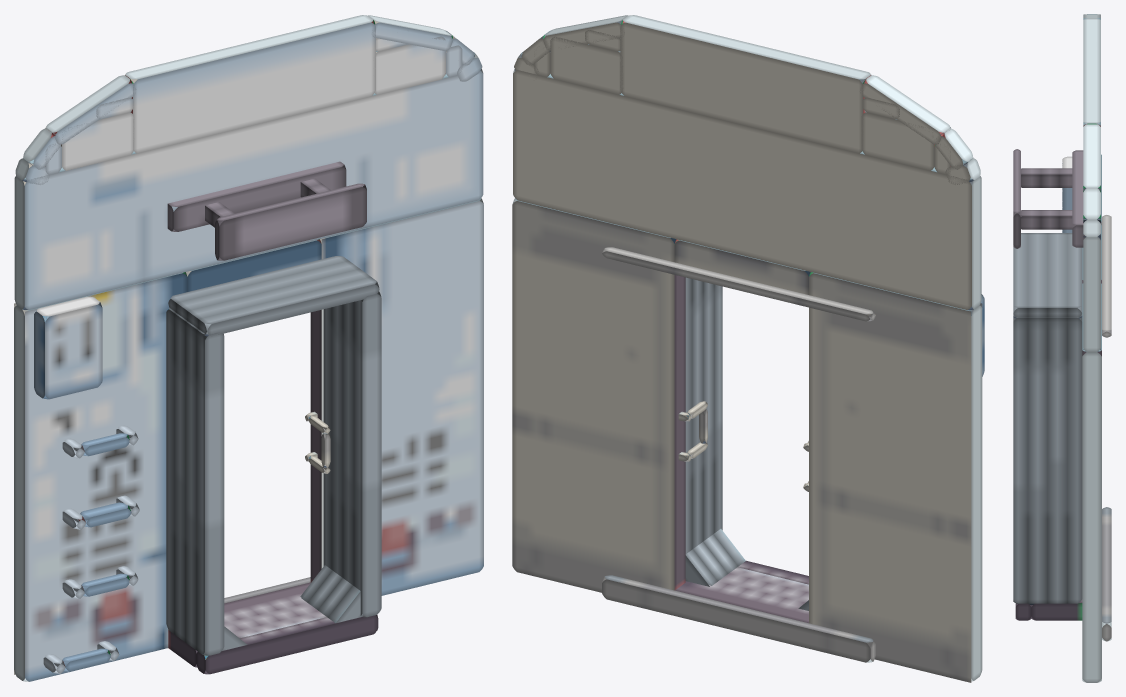
The model's file is end_face_original_25t_1.obj.
3 renders of one model, left to right at view 1: azimuth 30°, elevation 25°; view 2: azimuth 150°, elevation 25°; view 3: azimuth 270°, elevation 25°, orthographic. The views are drawn at different scales.
Parts seen in each view (by area): view 1: cube_selection; view 2: cube_selection; view 3: cube_selection.
Part boxes in pixels (box(x1,y1,x2,y2)): cube_selection: box(14, 15, 483, 681); cube_selection: box(512, 15, 984, 682); cube_selection: box(1013, 14, 1111, 682).
Bounding box in the file's own units: 3 × 3.58 × 0.625.
